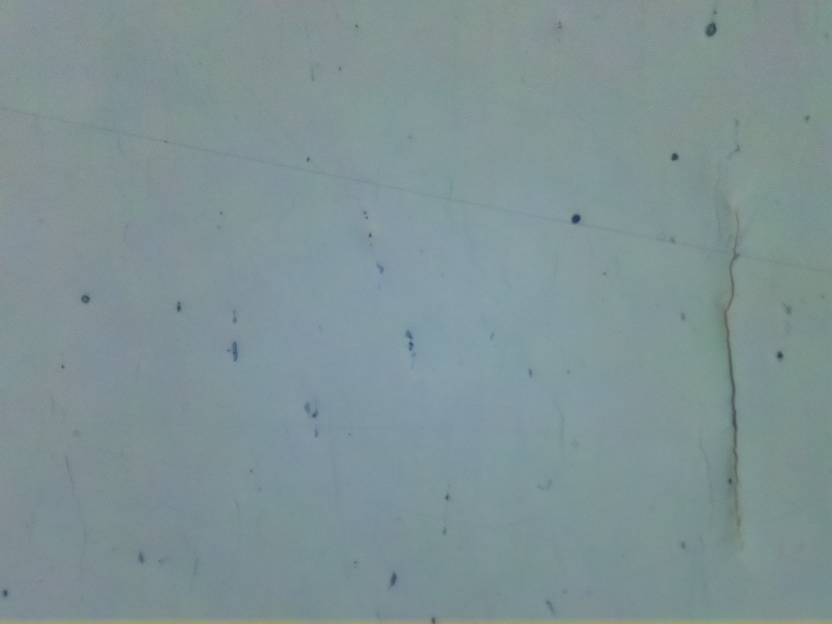crack: (719, 216, 746, 513)
